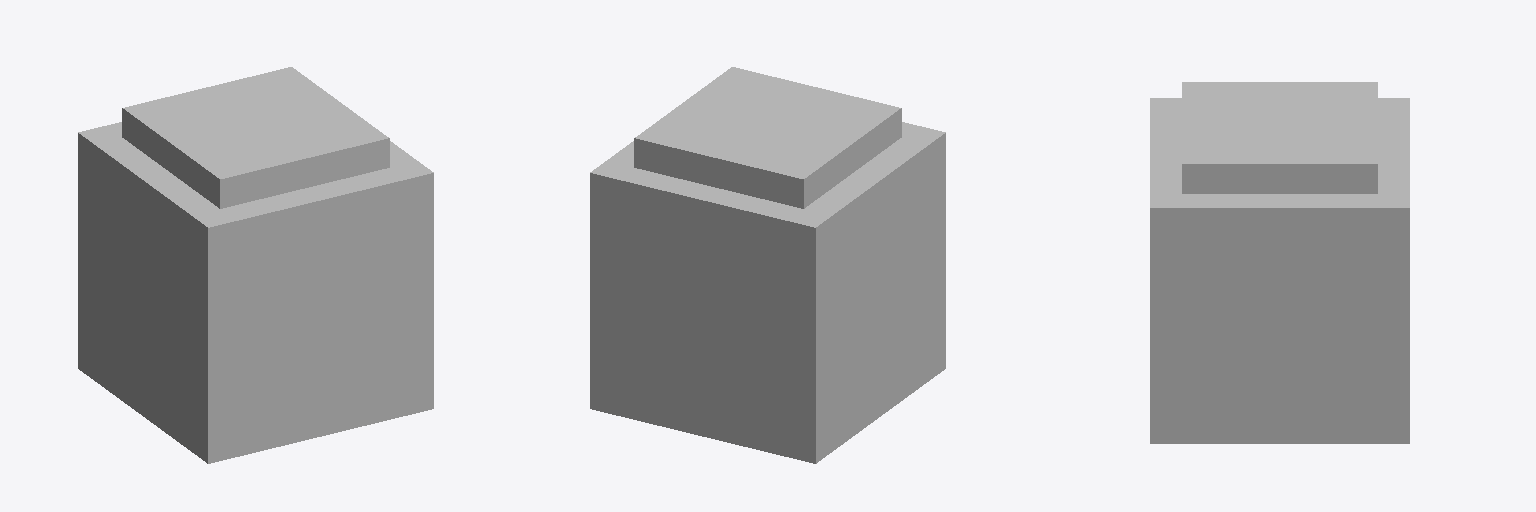
The model's file is Surmount Piece.obj.
3 views of the same model, side by side, from view 1: azimuth 30°, elevation 25°; view 2: azimuth 150°, elevation 25°; view 3: azimuth 270°, elevation 25° (orthographic).
Parts seen in each view (by area): view 1: Solid1; view 2: Solid1; view 3: Solid1.
Part boxes in pixels (left/top/right/bottom): Solid1: left=78, top=67, right=433, bottom=463; Solid1: left=590, top=67, right=945, bottom=463; Solid1: left=1150, top=82, right=1409, bottom=443.
Size of the model in its own units: 1 by 1.12 by 1.